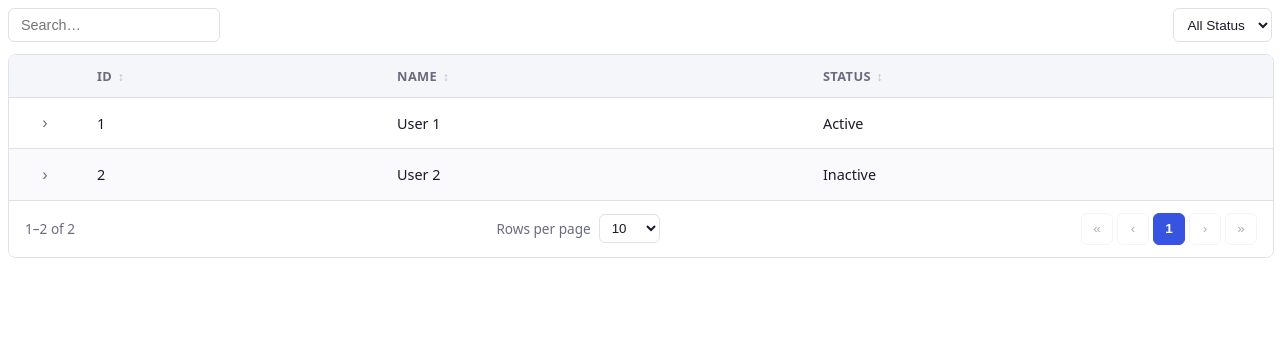
Test: <Table> › expands a row to show accordion detail content, collapsing others when multiple is false
Click the button named "Expand row" at (45, 123), box [31,109,59,137]
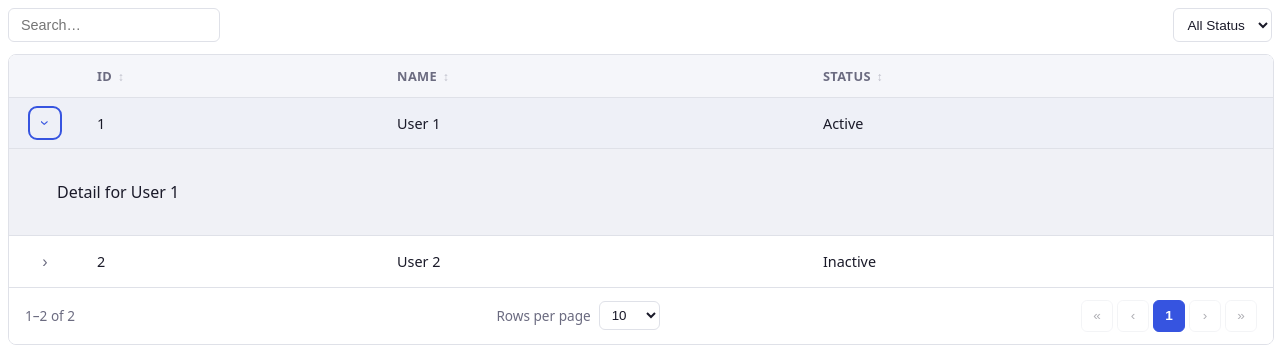
expect the text "Detail for User 1" is shown: met, box [57,181,179,203]
Click the button named "Expand row" at (45, 262), box [31,248,59,276]
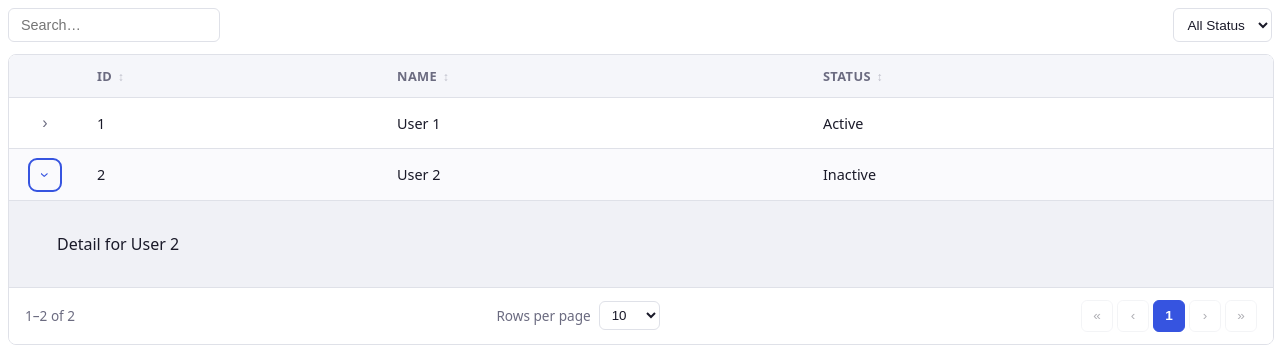
expect the text "Detail for User 2" is shown: met, box [57,233,179,255]
expect the text "Detail for User 1" is gone: met
